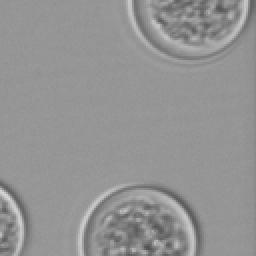picoshell: (76, 184, 198, 254), (126, 0, 252, 58), (0, 184, 24, 254)
